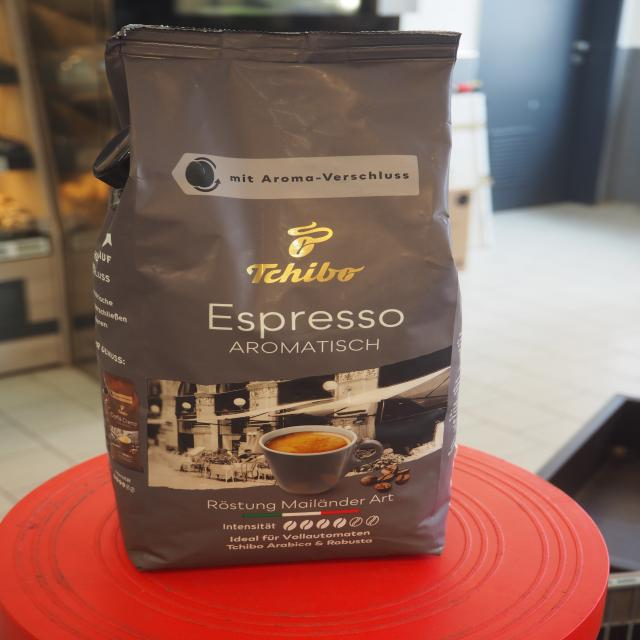Espresso Aromatisch: (73, 19, 470, 582)
